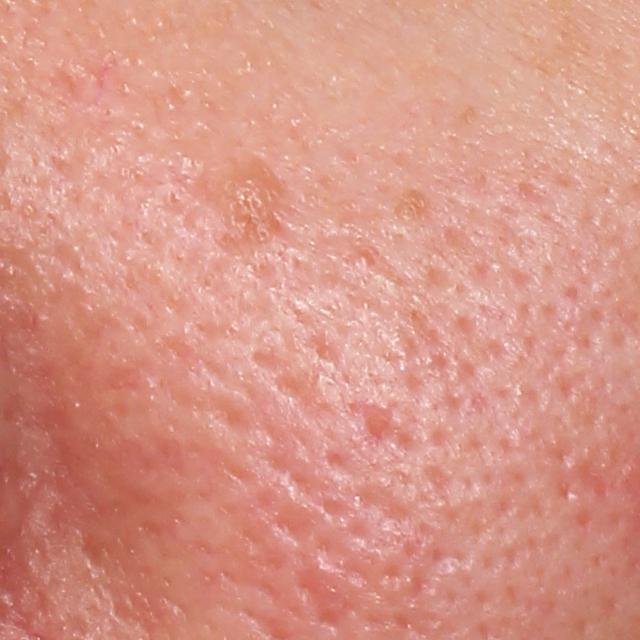atrophic_scar: (299, 566, 364, 639), (356, 405, 422, 467), (318, 437, 370, 484)
other: (217, 155, 291, 259)
